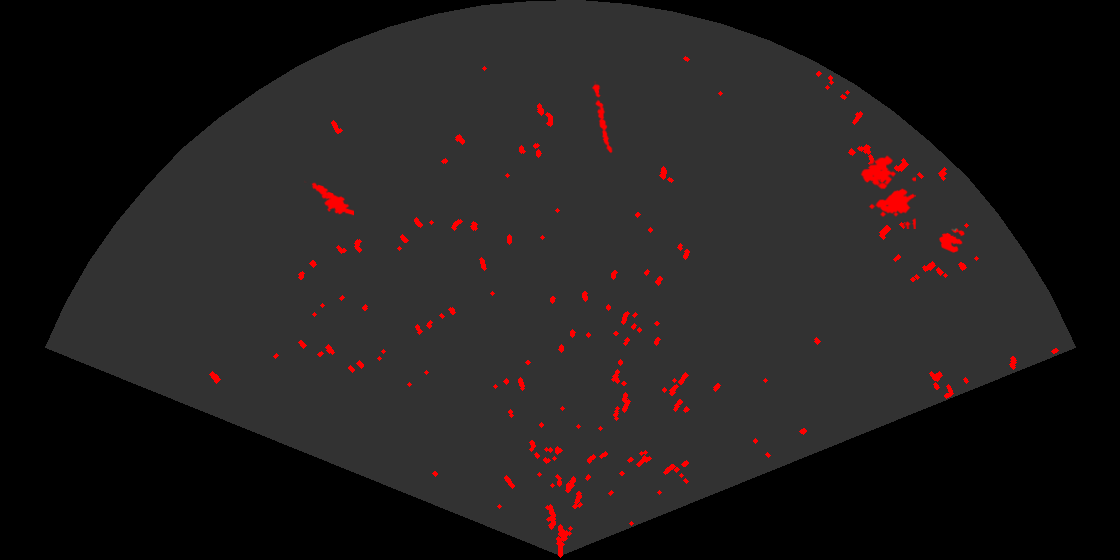ball: (937, 227, 966, 254)
cage: (859, 154, 916, 229)
chain: (590, 81, 614, 155)
frogman: (304, 180, 354, 217)
